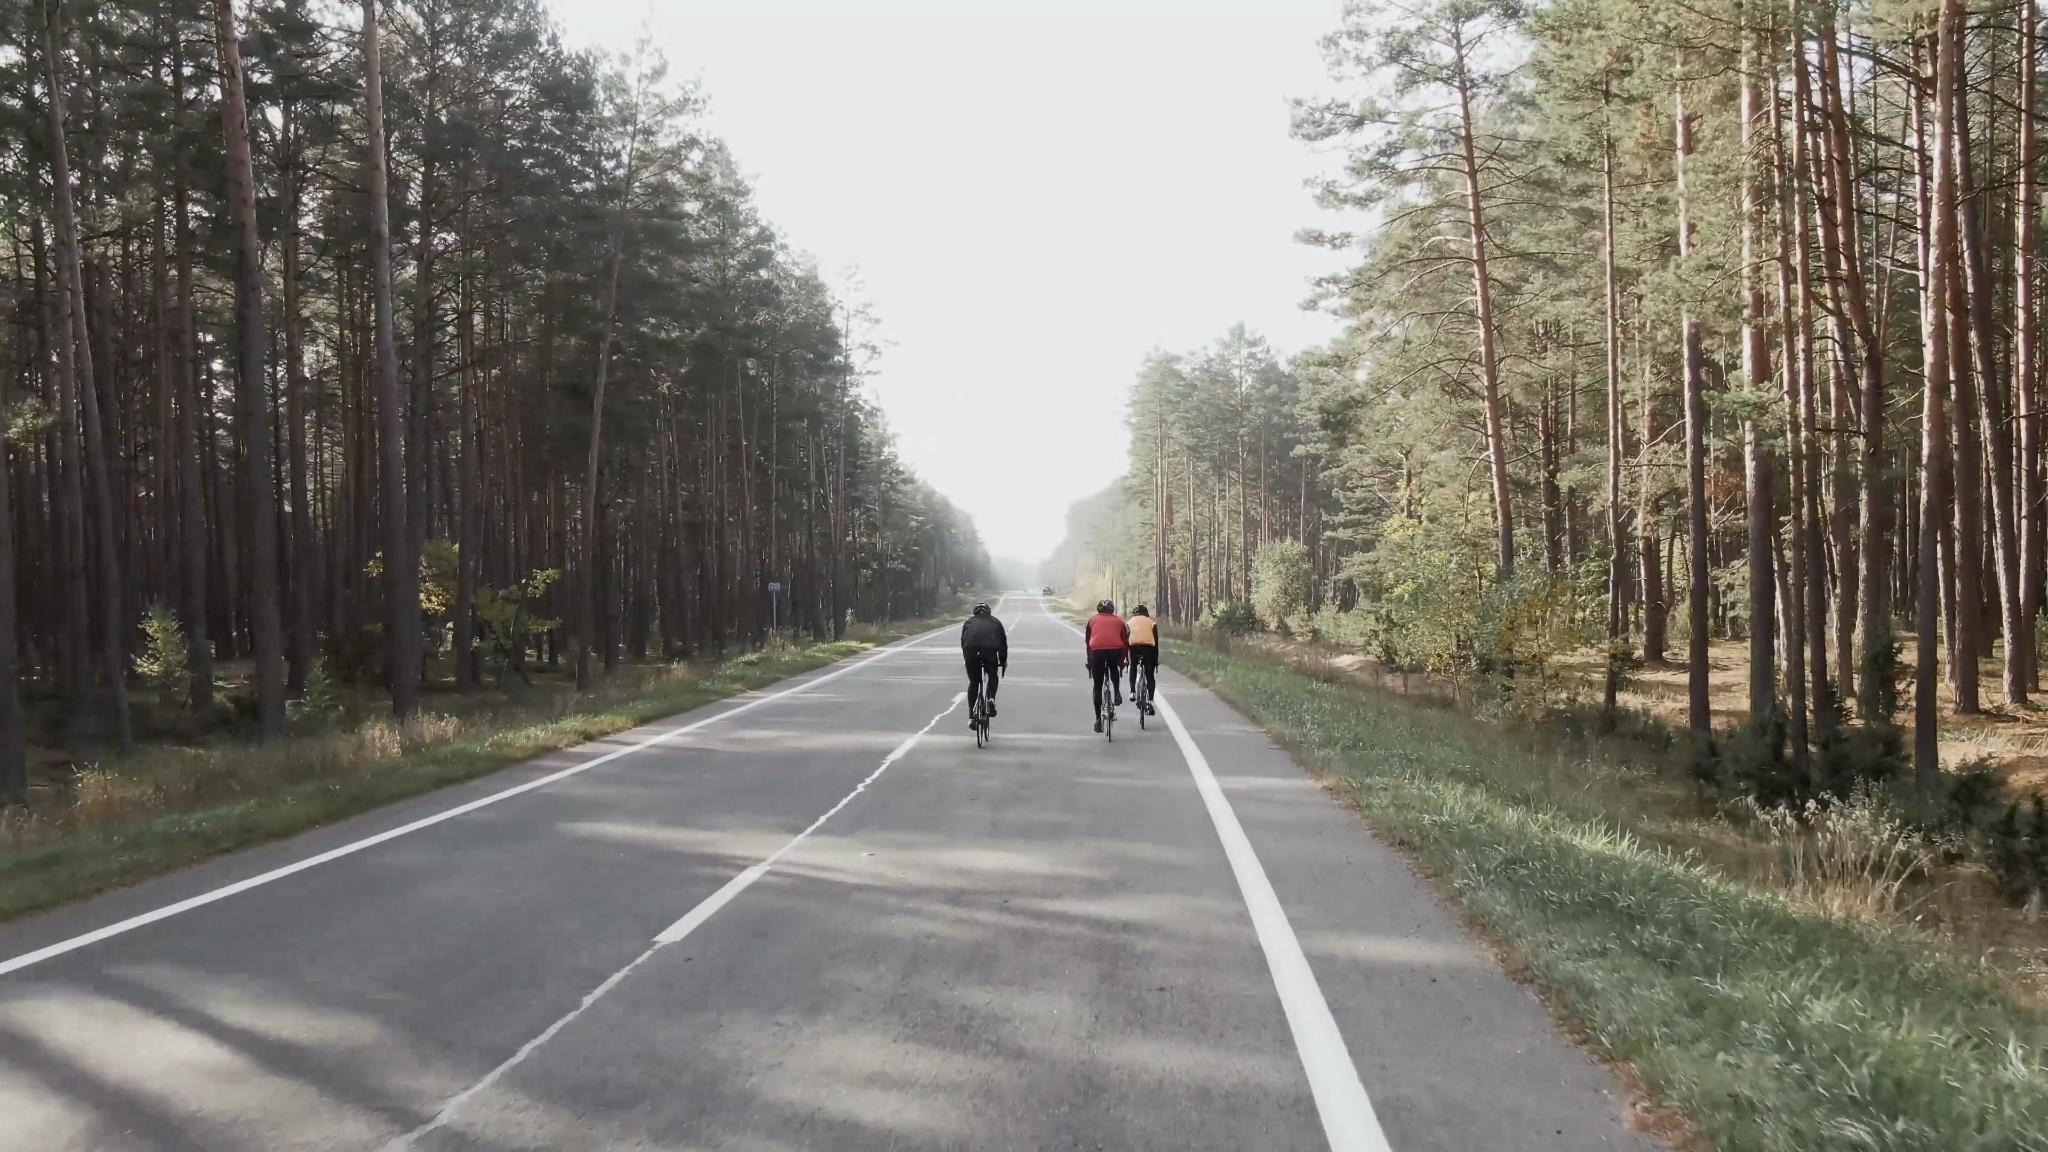cyclist: (942, 590, 1020, 756), (1116, 581, 1180, 741), (1070, 592, 1132, 744)
